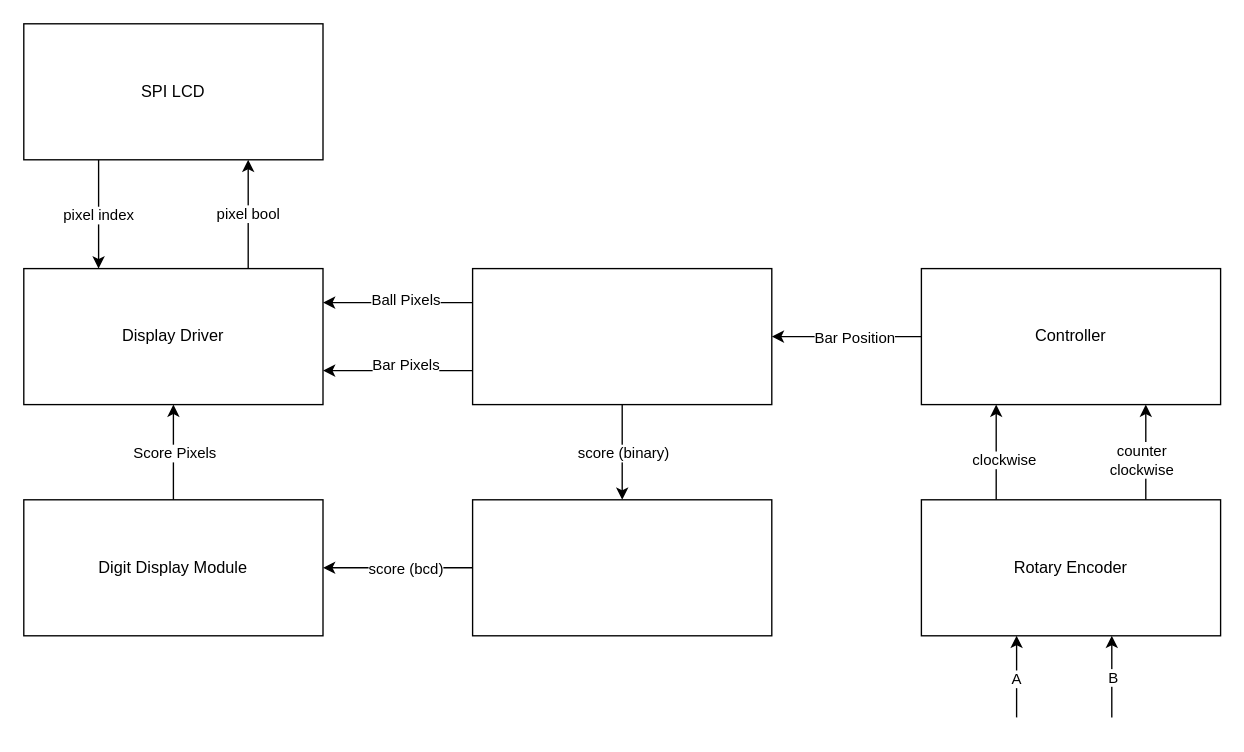
This 1244x752 diagram has some shape labels left out. Each missing label, with the centre of its shape:
Binary To BCD Converter: the point at 621,567
Game Logic: the point at 621,336
